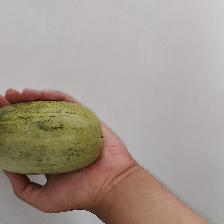gua: (4, 105, 87, 168)
